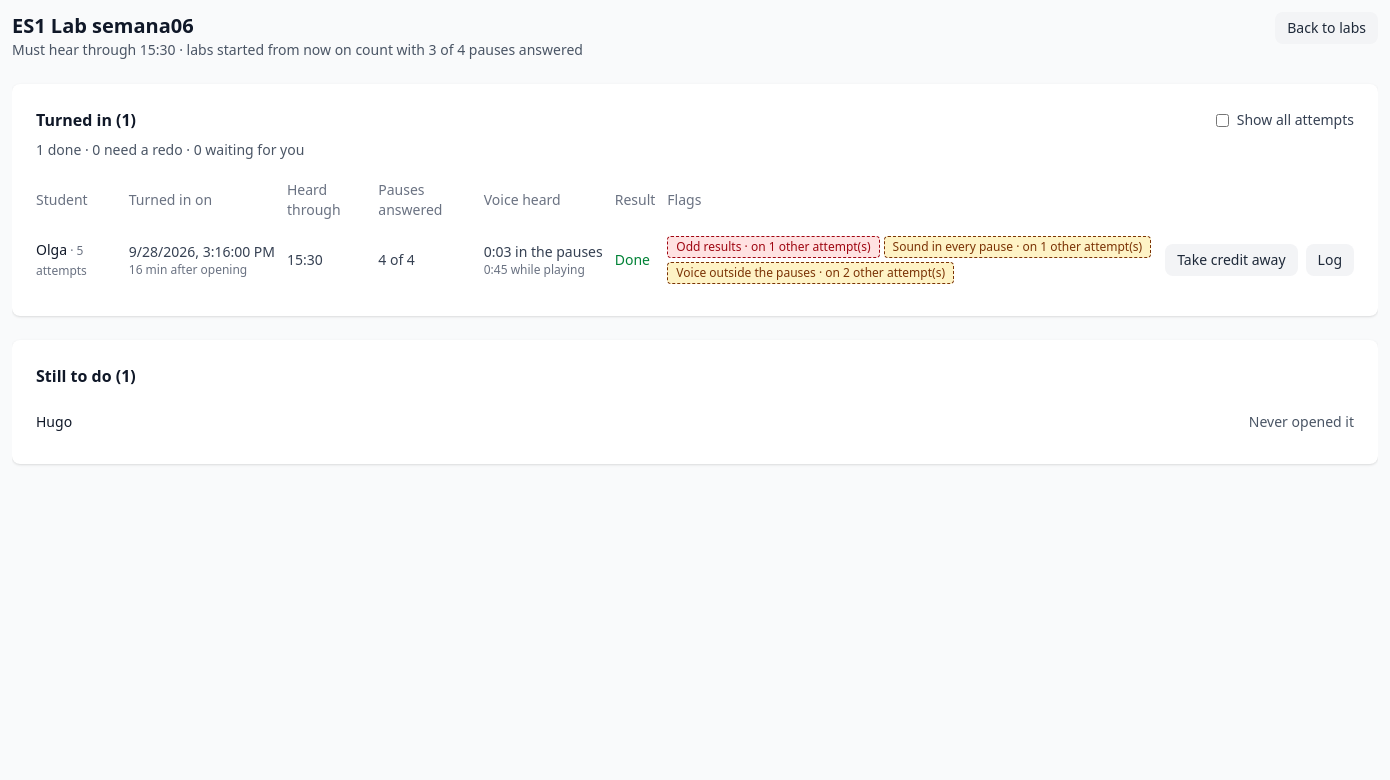
Test: LabReview › marks for flags on other attempts › lists the row that counts first, then the others newest first, and marks only the row that counts
Click the checkbox labelled "Show all attempts" at [1222, 120], box [1216,114,1229,126]
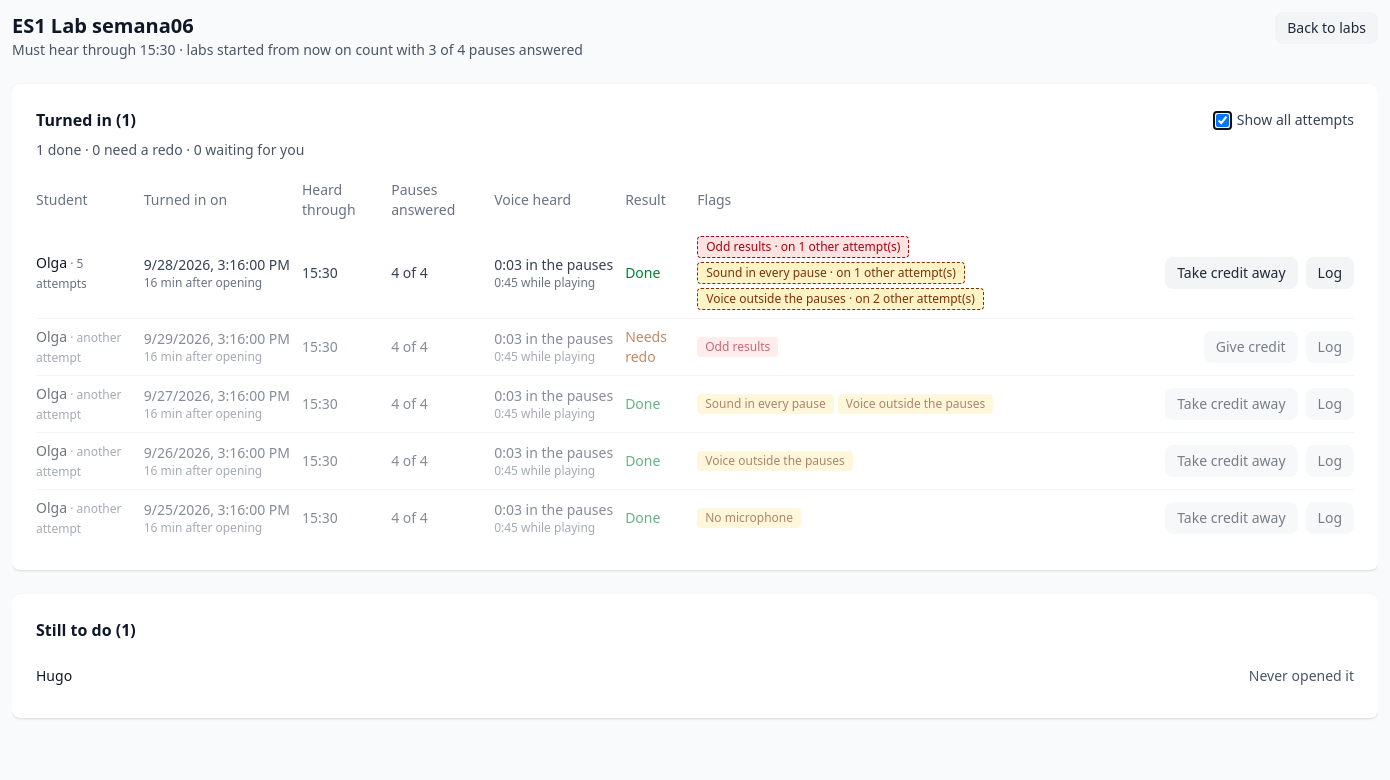
Expected: the text "· 5 attempts" is shown, [36,255,87,292]
Result: the text "Odd results" is shown at [697,337,778,357]
